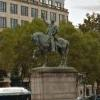Statue: (20, 19, 81, 69)
